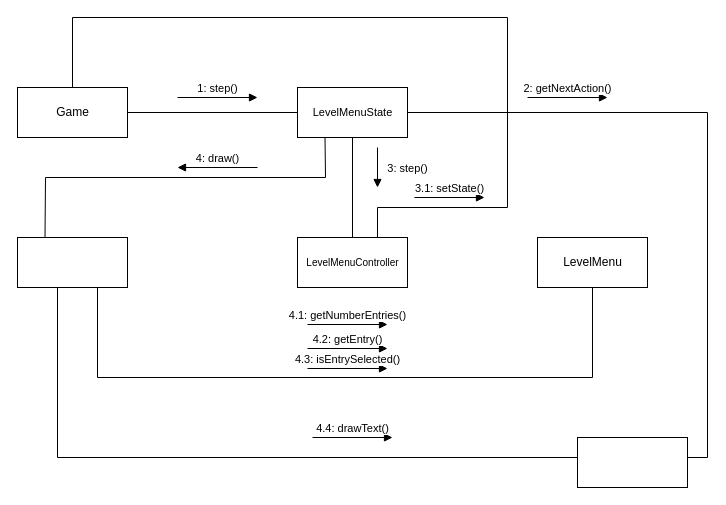
Some shapes in this 726 by 505 pixel diagram are drawn without their labels. The box of each missing label's shape, as (x1, y1, x2, y2) in pixels:
LanternaGUI: (576, 436, 688, 488)
LevelMenuViewer: (16, 236, 128, 288)
